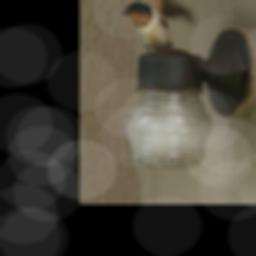Swallow: (121, 0, 196, 53)
